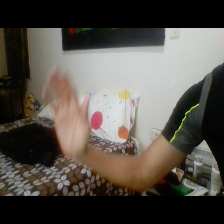left: (34, 66, 93, 158)
